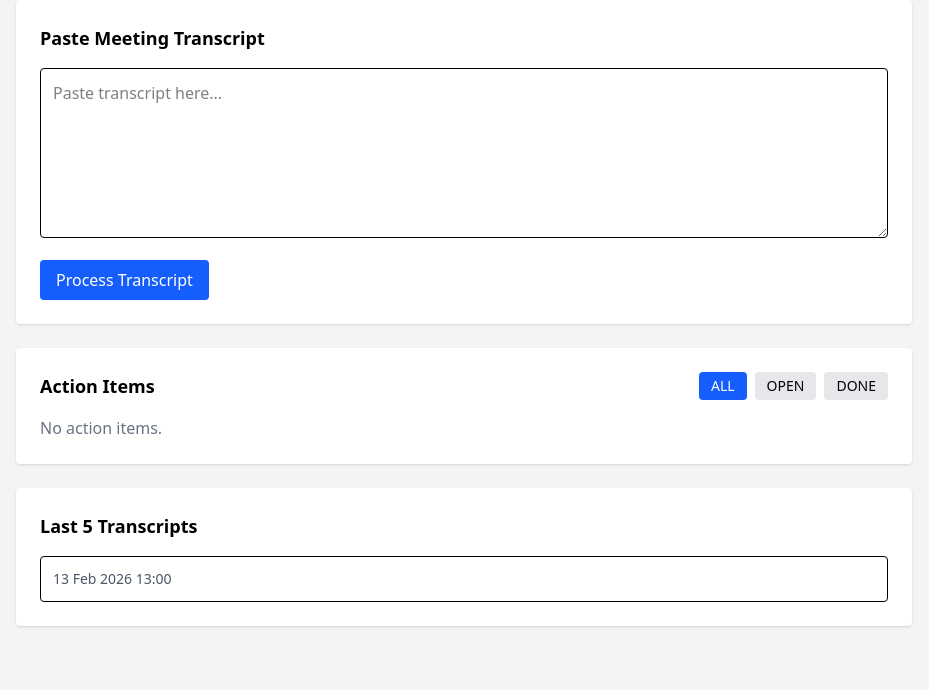
Test case: Home Integration › refetches action items after transcript processed
Type "Test transcript" into the text box with placeholder "Paste transcript here...". click: (464,153)
box: x1=40 y1=68 x2=888 y2=238
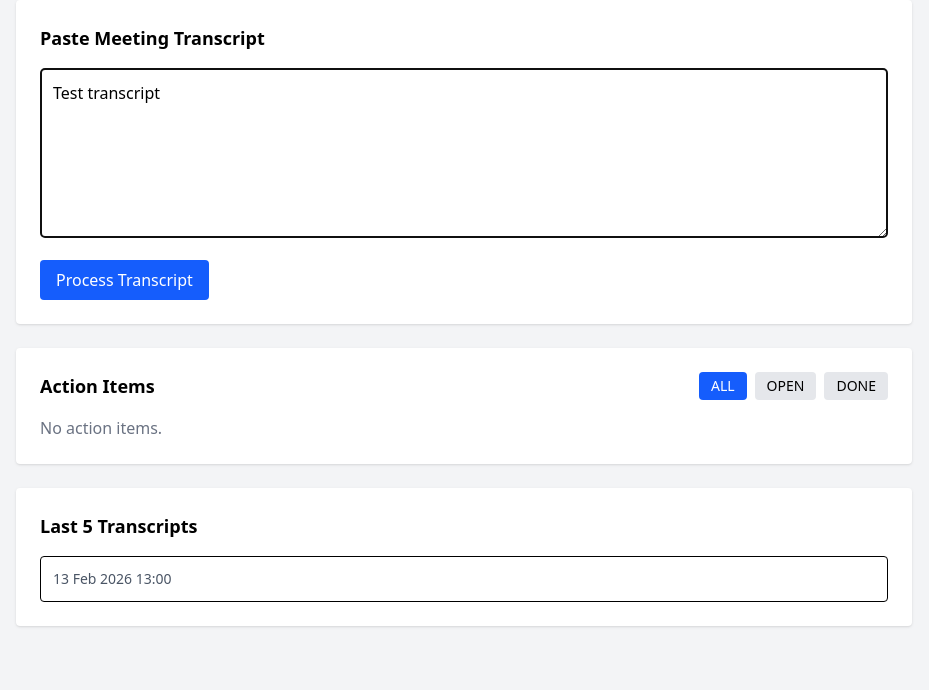
Click the button "Process Transcript". click: (124,280)
box: x1=40 y1=260 x2=209 y2=300
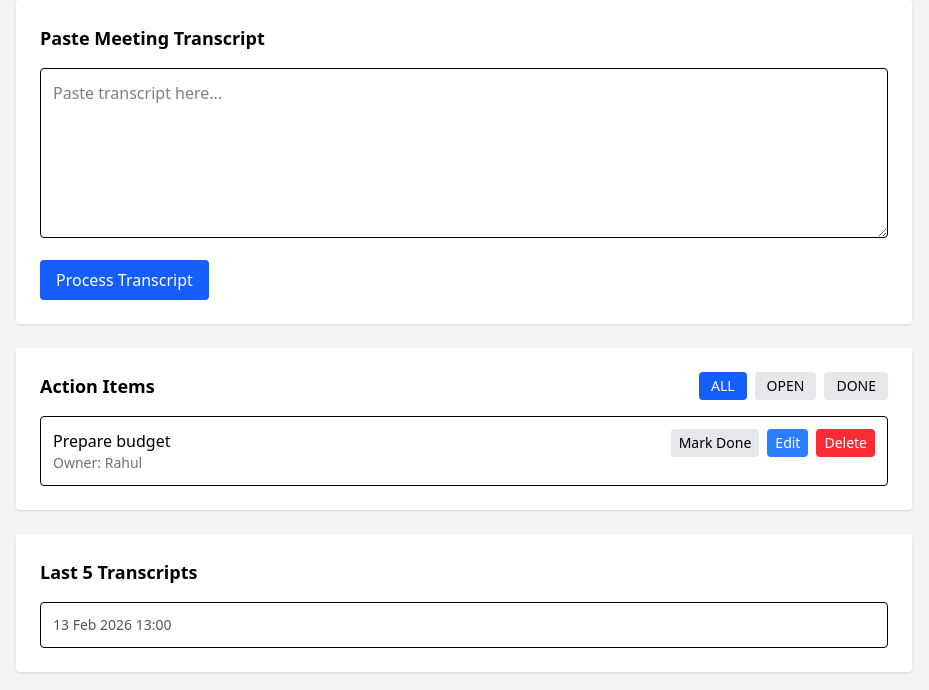
Expected: the text "Prepare budget" is shown, x1=53 y1=430 x2=170 y2=452
